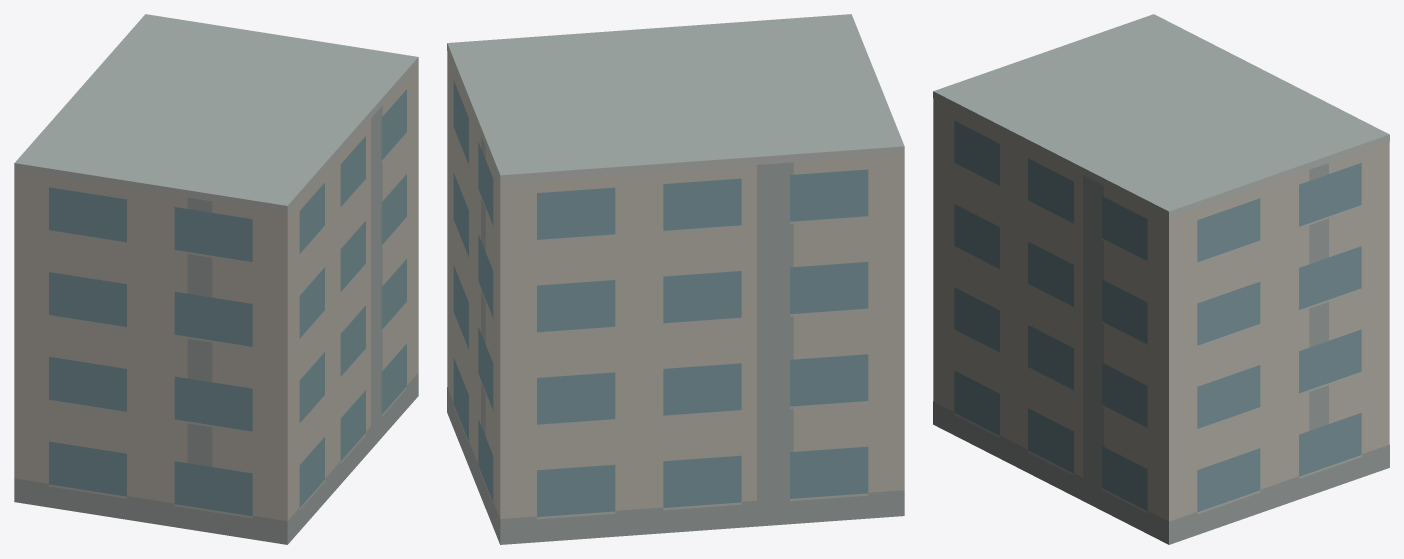
Rendered from residential-4052ccfd-5bb7-4719-8db0-215cd805cb14.glb.
The picture shows the model from 3 angles, left to right: view 1: azimuth 30°, elevation 25°; view 2: azimuth 150°, elevation 25°; view 3: azimuth 270°, elevation 25°; orthographic projection. The views are drawn at different scales.
Visible parts, largest first — view 1: residential-4052ccfd-5bb7-4719-8db0-215cd805cb14.tmp; view 2: residential-4052ccfd-5bb7-4719-8db0-215cd805cb14.tmp; view 3: residential-4052ccfd-5bb7-4719-8db0-215cd805cb14.tmp.
Part boxes in pixels (bbox=[...]): residential-4052ccfd-5bb7-4719-8db0-215cd805cb14.tmp: bbox=[14, 14, 418, 544]; residential-4052ccfd-5bb7-4719-8db0-215cd805cb14.tmp: bbox=[447, 14, 904, 544]; residential-4052ccfd-5bb7-4719-8db0-215cd805cb14.tmp: bbox=[933, 14, 1389, 544].
Bounding box in the file's own units: 14.38 × 11.3 × 14.04.
